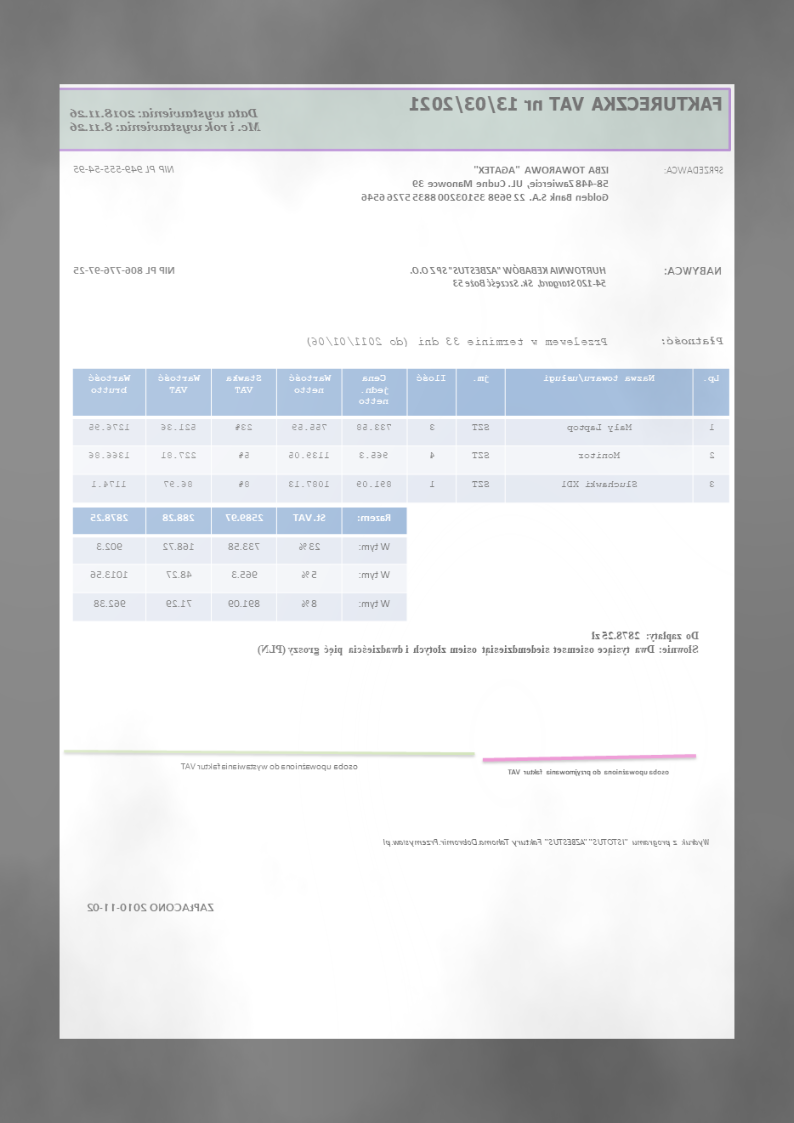Table: (71, 366, 731, 505), (72, 507, 408, 622)
TextBox: (255, 628, 701, 658), (360, 163, 611, 204), (408, 94, 725, 116), (69, 105, 264, 135), (408, 264, 608, 289), (381, 836, 712, 849), (304, 335, 609, 349), (180, 761, 360, 773), (508, 766, 672, 778), (87, 899, 217, 914), (73, 264, 178, 276), (72, 163, 176, 175), (660, 333, 725, 348), (663, 162, 725, 177), (664, 264, 724, 277)
